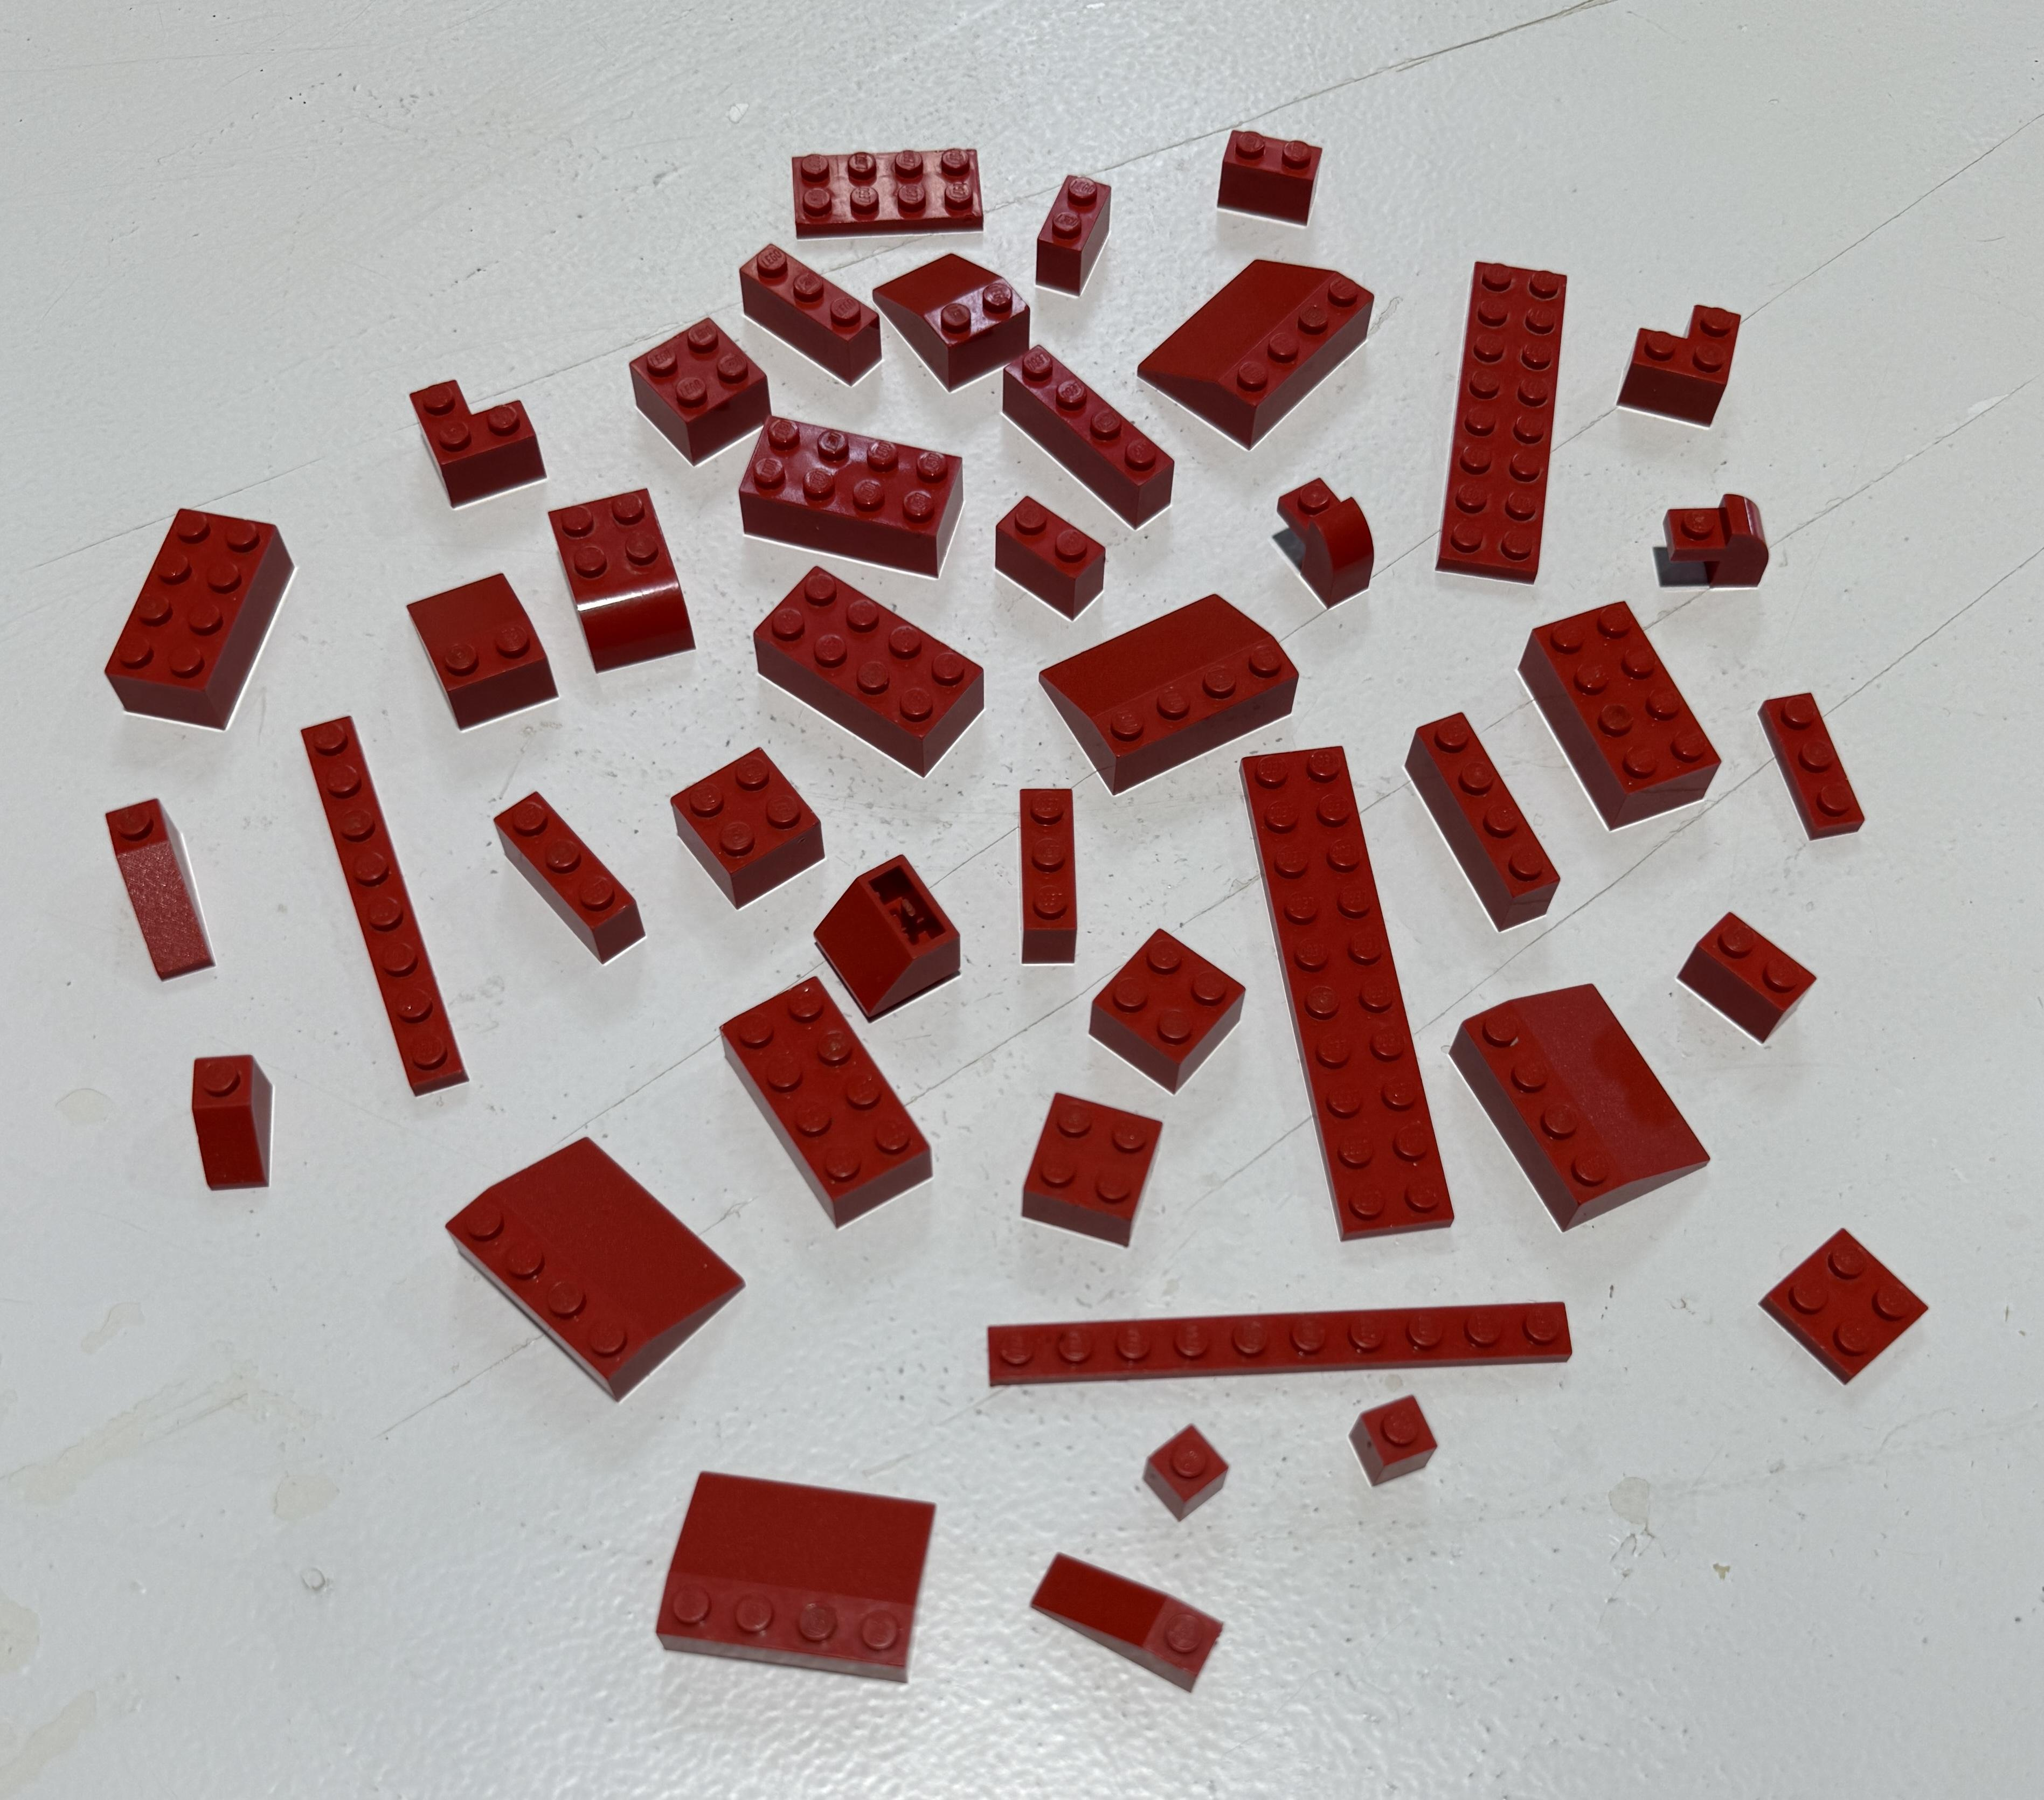Special_02: (398, 553, 574, 742), (862, 238, 1043, 398)
brick_1x1: (1333, 1369, 1463, 1513), (1121, 1402, 1244, 1532)
brick_1x2: (1196, 103, 1377, 257), (1669, 890, 1835, 1055), (975, 483, 1128, 638), (1024, 146, 1126, 313)
brick_1x3: (471, 766, 660, 971), (721, 228, 902, 403), (991, 766, 1107, 985)
brick_1x4: (979, 325, 1211, 540), (1380, 679, 1575, 935)
brick_2x2: (603, 302, 794, 485), (1067, 914, 1248, 1102), (660, 731, 836, 917), (1015, 1074, 1194, 1244)
brick_2x4: (706, 949, 952, 1241), (1498, 582, 1747, 853), (63, 486, 309, 747), (714, 556, 1006, 771), (716, 394, 991, 589)
plate_2x2: (1747, 1206, 1936, 1418)
